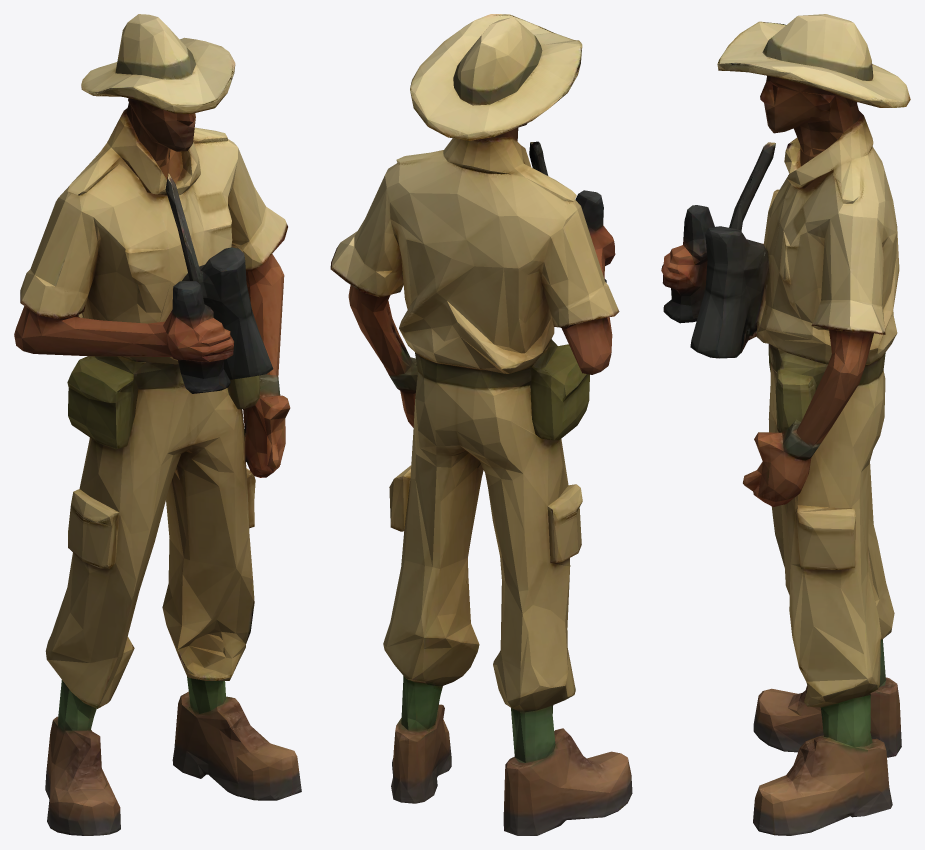
The model's file is ranger_desert.glb.
3 views of the same model, side by side, from view 1: azimuth 30°, elevation 25°; view 2: azimuth 150°, elevation 25°; view 3: azimuth 270°, elevation 25° (orthographic). The views are drawn at different scales.
Parts seen in each view (by area): view 1: world; view 2: world; view 3: world.
Boxes of the visible parts, x1,y1,x2,y2 form: world: [14, 14, 301, 835]; world: [330, 14, 632, 835]; world: [661, 14, 910, 835].
Bounding box in the file's own units: 0.3665 × 0.9994 × 0.2959.
Materials: 1 (1 with a texture image).
